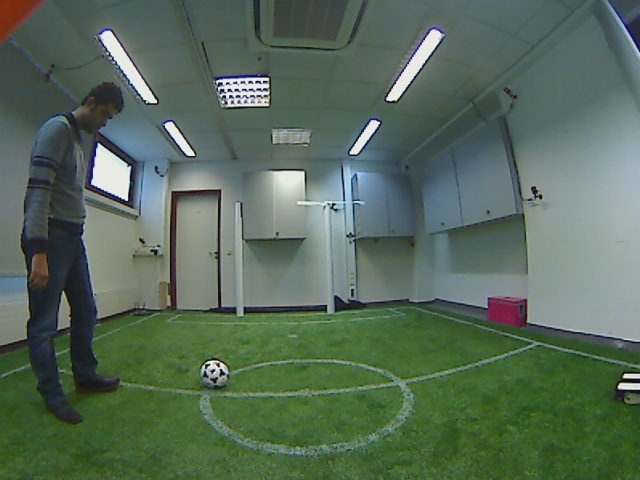ball: (194, 355, 233, 392)
